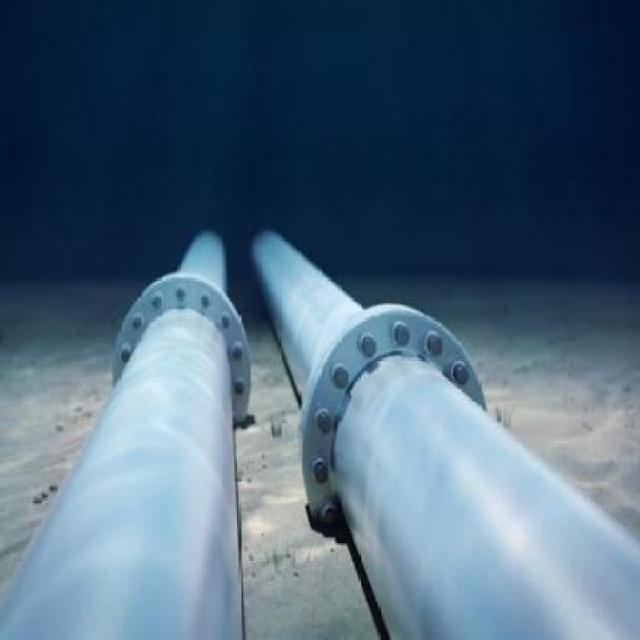gas: (249, 232, 640, 640), (0, 237, 243, 632)
